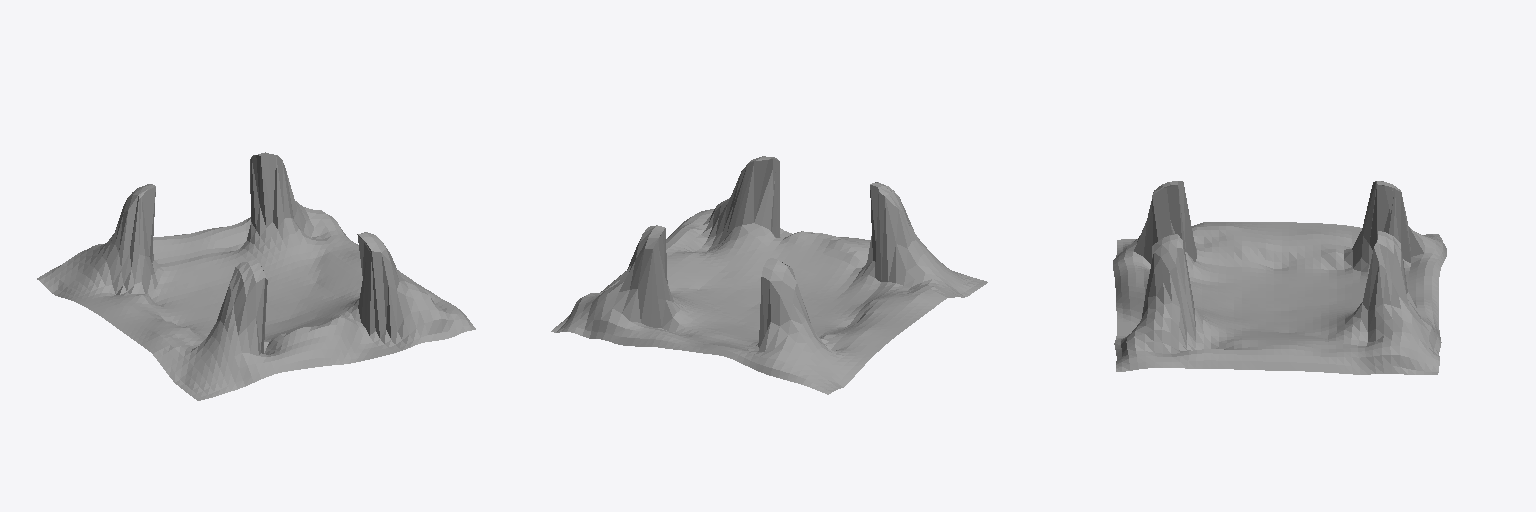
The model's file is Second.obj.
3 views of the same model, side by side, from view 1: azimuth 30°, elevation 25°; view 2: azimuth 150°, elevation 25°; view 3: azimuth 270°, elevation 25° (orthographic).
Parts seen in each view (by area): view 1: 2288.001_Plane; view 2: 2288.001_Plane; view 3: 2288.001_Plane.
Part boxes in pixels (bbox=[...]): 2288.001_Plane: bbox=[37, 152, 475, 400]; 2288.001_Plane: bbox=[551, 156, 987, 394]; 2288.001_Plane: bbox=[1113, 181, 1446, 374].
Size of the model in its own units: 138 by 47.81 by 141.